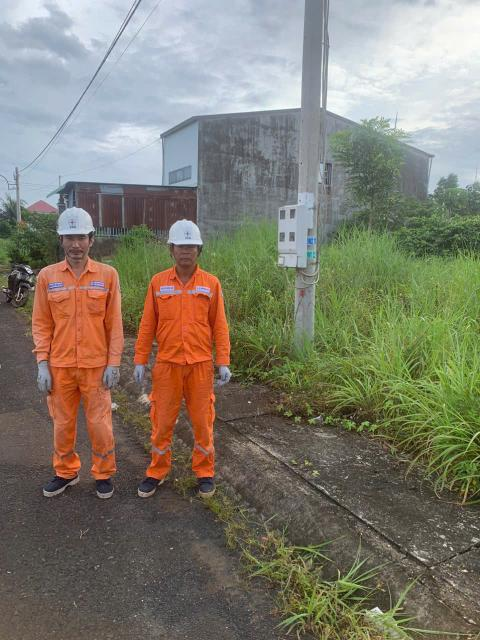gloves: (23, 344, 69, 394), (212, 353, 247, 396), (97, 345, 122, 395), (132, 356, 156, 391)
helmet: (53, 204, 102, 240), (163, 216, 210, 247)
shoes: (30, 456, 84, 498), (193, 457, 226, 509), (89, 463, 123, 510), (137, 463, 168, 507)
